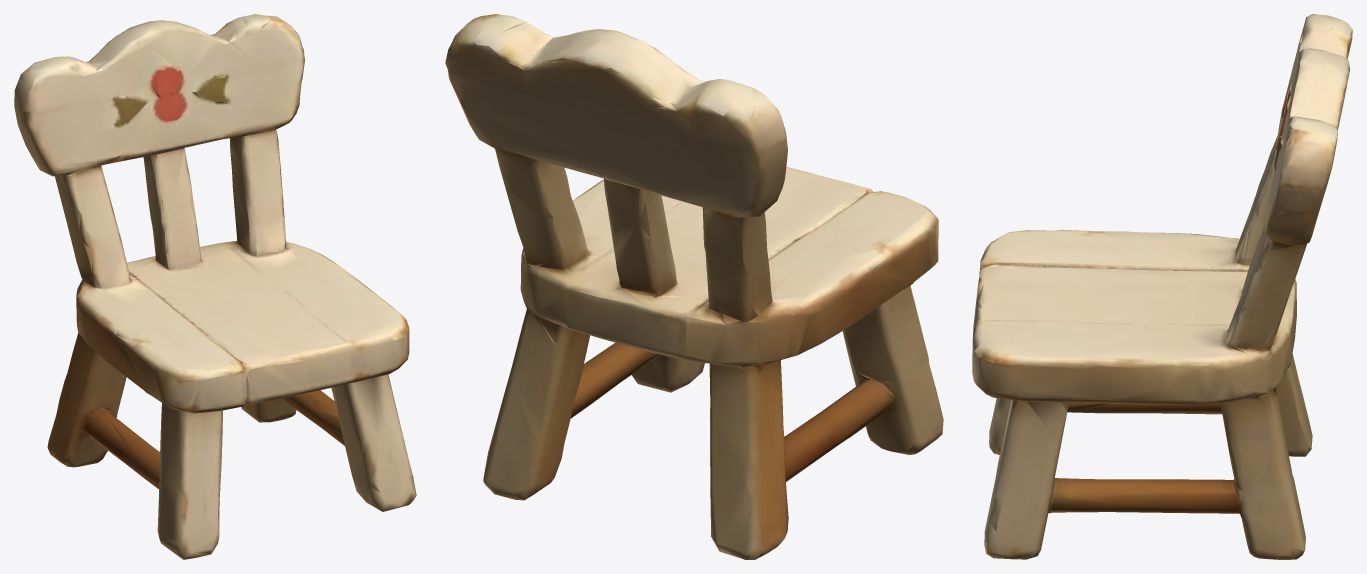
Rendered from chair19.glb.
The picture shows the model from 3 angles, left to right: view 1: azimuth 30°, elevation 25°; view 2: azimuth 150°, elevation 25°; view 3: azimuth 270°, elevation 25°; orthographic projection. The views are drawn at different scales.
Bounding box in the file's own units: 0.1748 × 0.2475 × 0.1905.
1 material, 1 textured.
